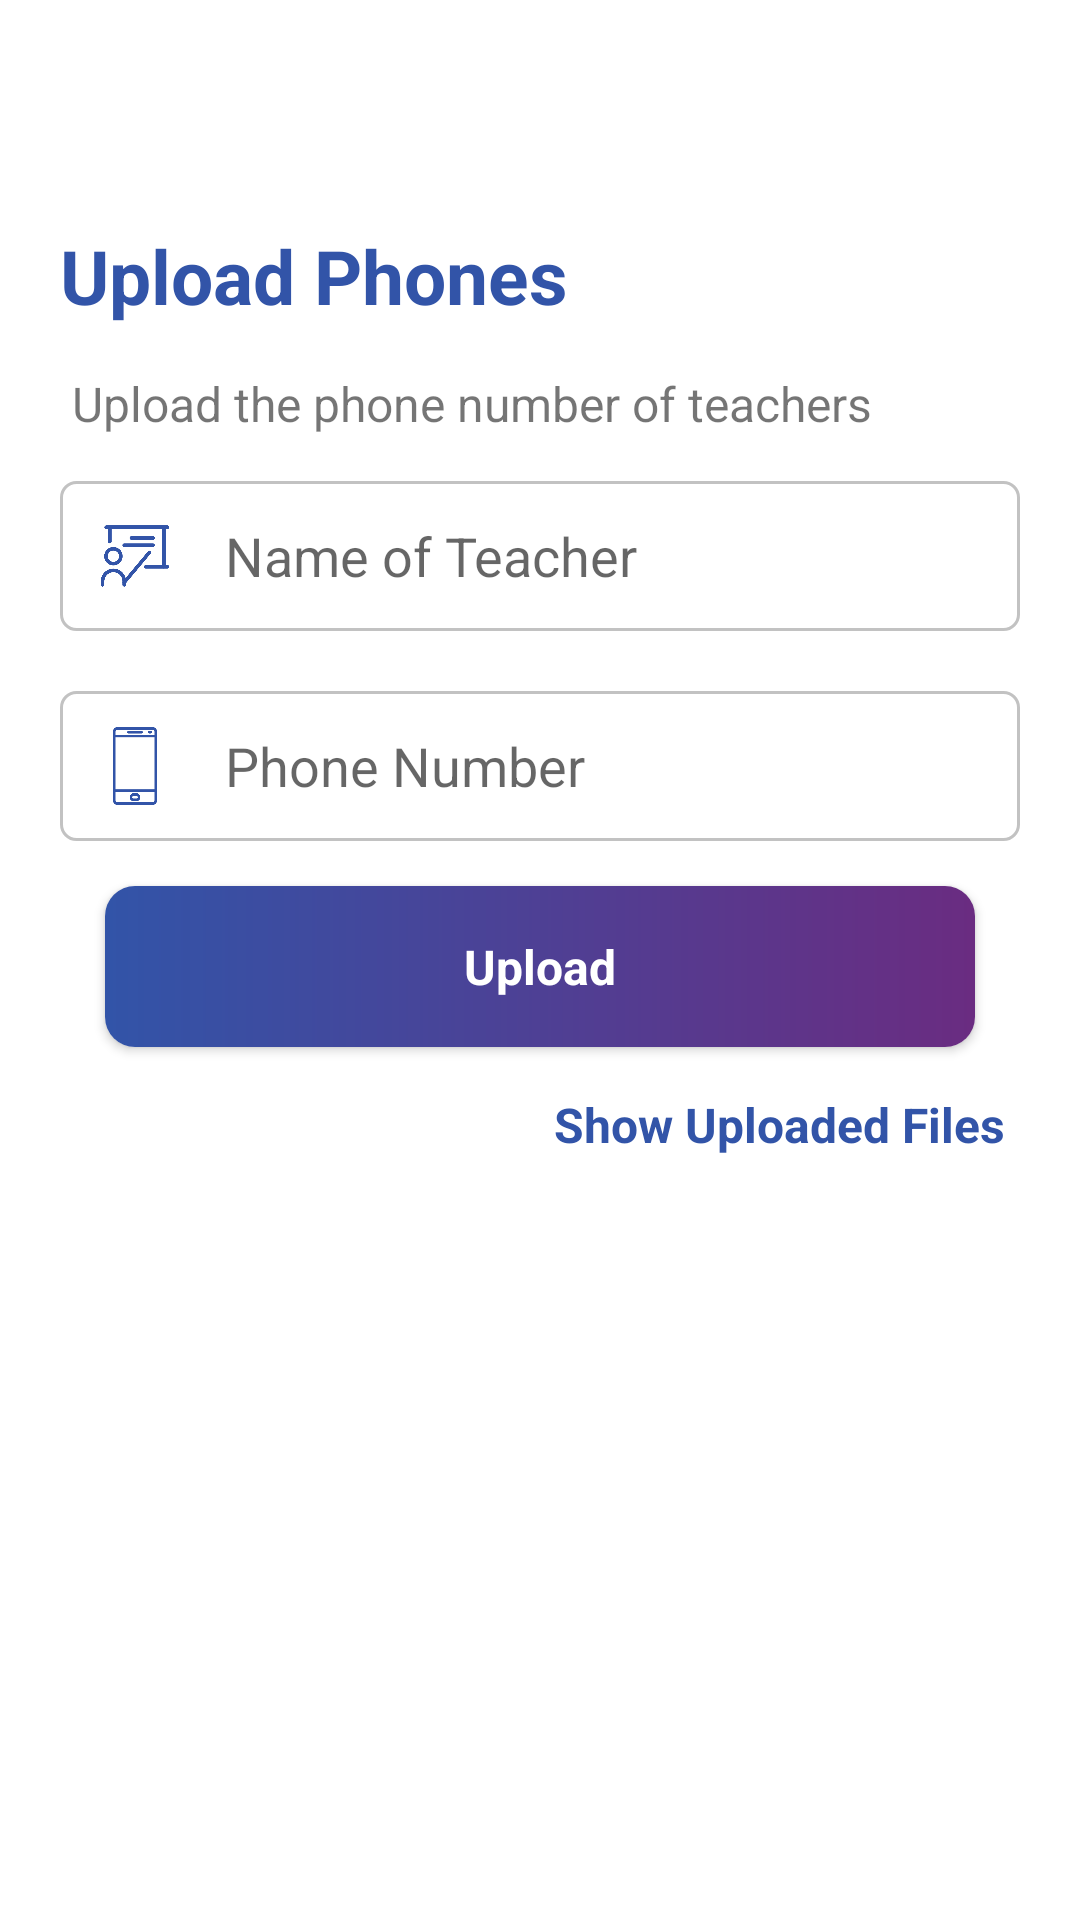

Icons on this 1080 × 1920 Android screen, each with the point to tap as (x,y):
smartphone: (135,766)
